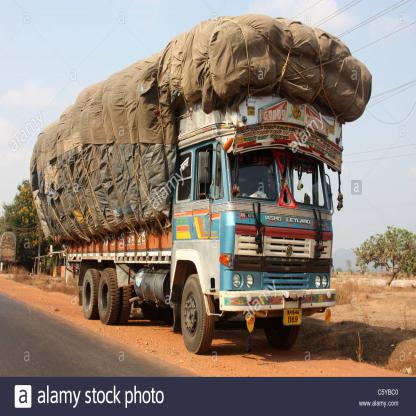overloaded-truck: (23, 33, 374, 216)
